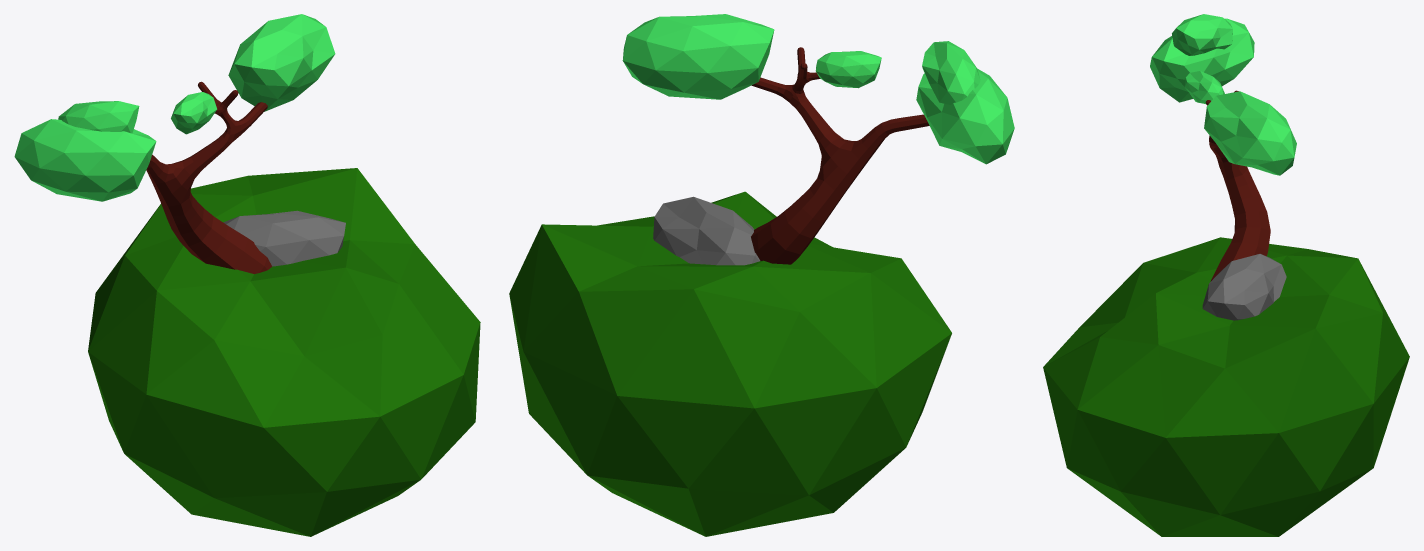
File: остров.fbx
3 renders of one model, left to right at view 1: azimuth 30°, elevation 25°; view 2: azimuth 150°, elevation 25°; view 3: azimuth 270°, elevation 25°, orthographic. The views are drawn at different scales.
Parts seen in each view (by area): view 1: Плоскость; view 2: Плоскость; view 3: Плоскость.
Boxes of the visible parts, left/top/right/bottom form: Плоскость: left=14, top=14, right=480, bottom=536; Плоскость: left=509, top=14, right=1014, bottom=536; Плоскость: left=1043, top=14, right=1409, bottom=536.
Size of the model in its own units: 1331 by 1387 by 1078.
